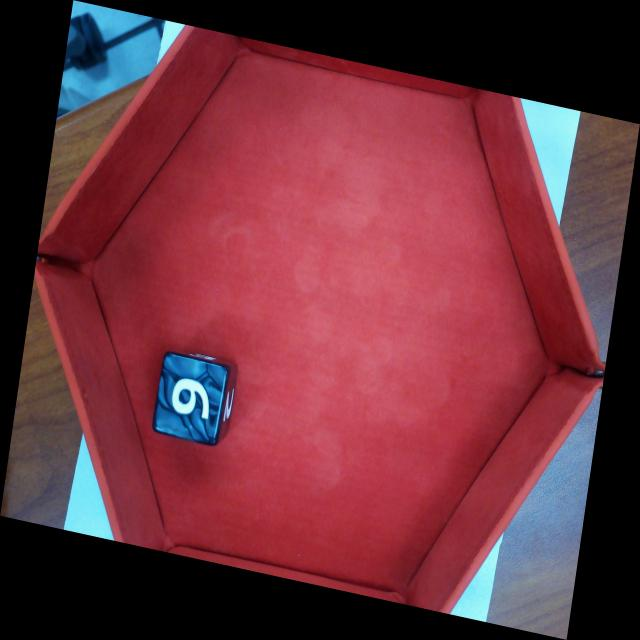dice: (152, 349, 229, 449)
